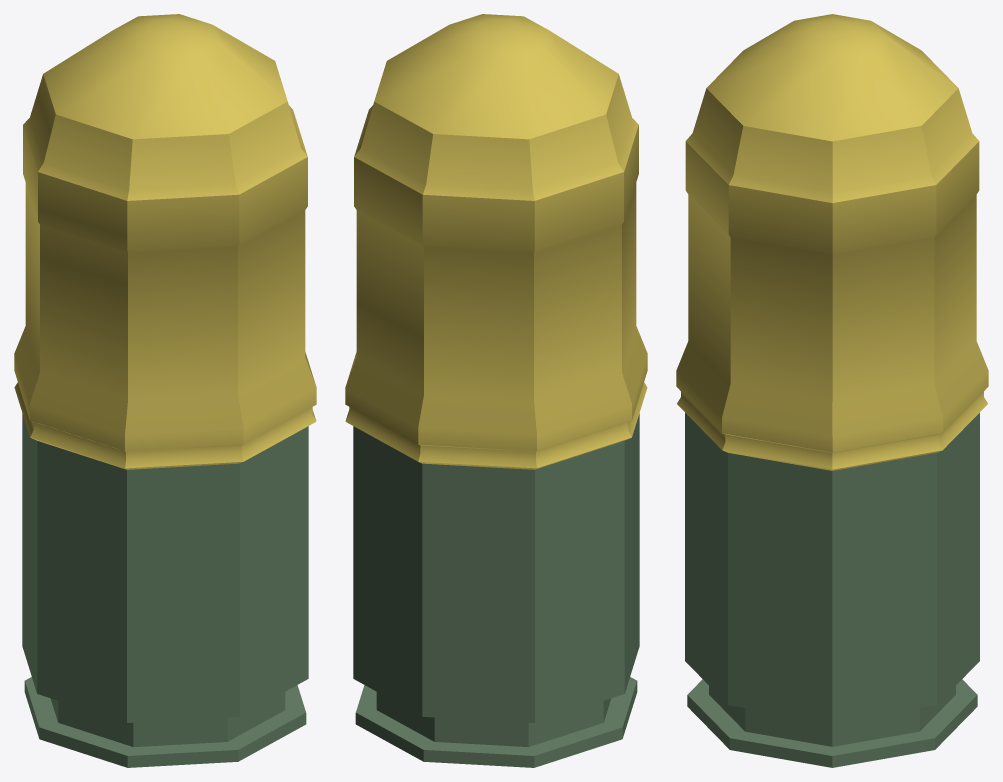
The model's file is bullet_grenadelauncher.fbx.
The picture shows the model from 3 angles, left to right: view 1: azimuth 30°, elevation 25°; view 2: azimuth 150°, elevation 25°; view 3: azimuth 270°, elevation 25°; orthographic projection.
Parts seen in each view (by area): view 1: Cylinder; view 2: Cylinder; view 3: Cylinder.
Boxes of the visible parts, x1,y1,x2,y2 form: Cylinder: (14,14,316,767); Cylinder: (345,14,647,767); Cylinder: (676,14,988,767).
Size of the model in its own units: 211 by 507 by 211.
